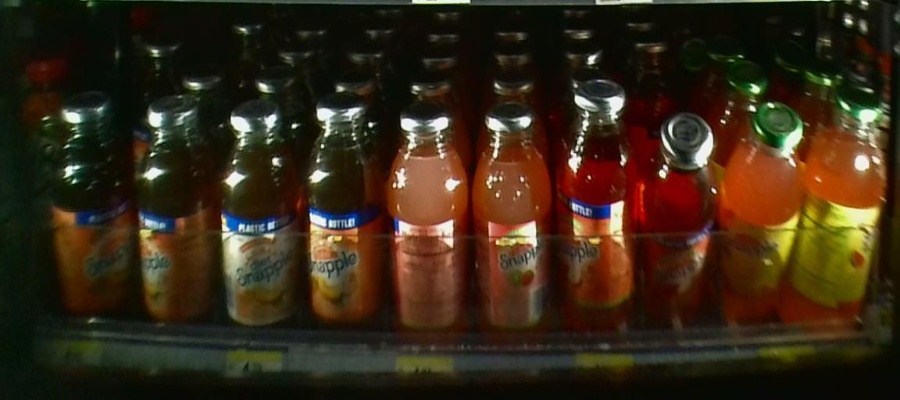bottle: (552, 74, 639, 356), (808, 70, 886, 355), (385, 102, 471, 360), (298, 101, 382, 341), (51, 85, 133, 328), (473, 95, 550, 352), (644, 103, 725, 347), (136, 89, 214, 333), (729, 101, 805, 347), (218, 97, 295, 336)
